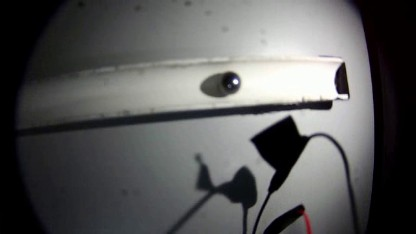gangzhu: (221, 71, 243, 93)
